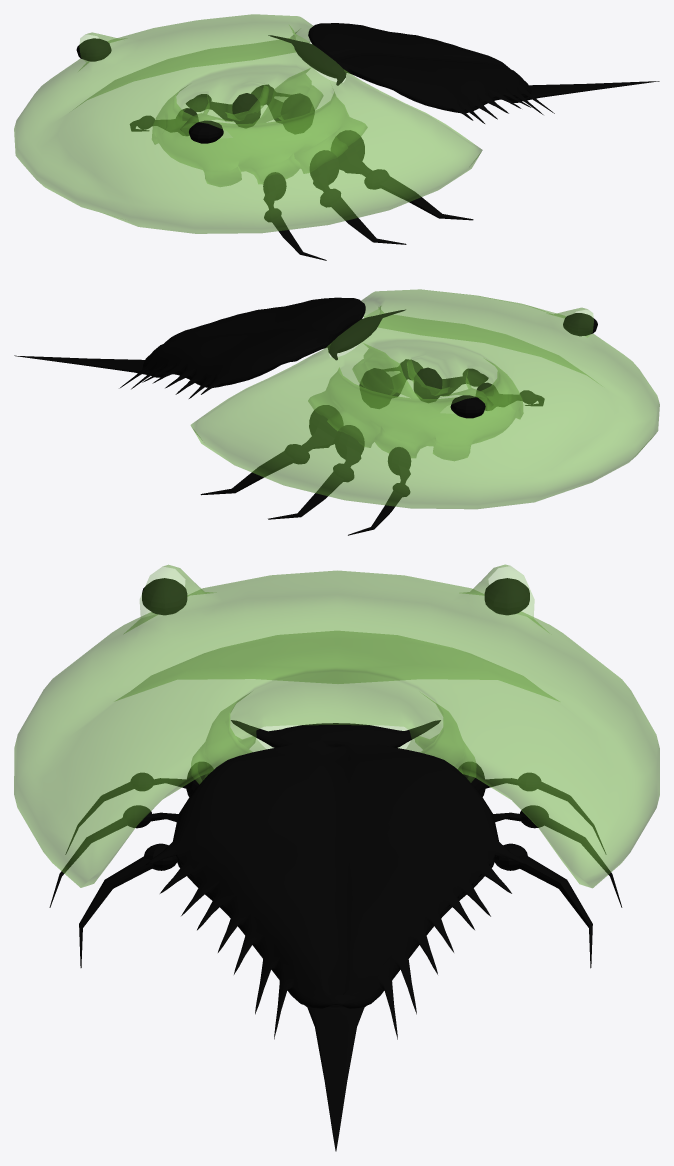
File: crab.fbx
The picture shows the model from 3 angles, top to bottom: view 1: azimuth 30°, elevation 25°; view 2: azimuth 150°, elevation 25°; view 3: azimuth 270°, elevation 25°; orthographic projection. The views are drawn at different scales.
Parts seen in each view (by area): view 1: pSphere3, pSphere5, pSphere16, pSphere7, pSphere4, pSphere13, pSphere6, pSphere8, pSphere9, pSphere15, pSphere19, pSphere18 (+2 smaller); view 2: pSphere3, pSphere5, pSphere4, pSphere17, pSphere16, pSphere9, pSphere6, pSphere12, pSphere13, pSphere11, pSphere19, pSphere18 (+2 smaller); view 3: pSphere3, pSphere5, pSphere6, pSphere17, pSphere7, pSphere18, pSphere19, pSphere12, pSphere8, pSphere10, pSphere14.
Part boxes in pixels (left/top/right/bottom): pSphere3: left=14, top=14, right=482, bottom=233; pSphere5: left=268, top=23, right=554, bottom=123; pSphere16: left=264, top=93, right=314, bottom=133; pSphere7: left=364, top=169, right=473, bottom=220; pSphere4: left=331, top=130, right=372, bottom=176; pSphere13: left=205, top=93, right=260, bottom=127; pSphere6: left=508, top=81, right=659, bottom=102; pSphere8: left=320, top=188, right=406, bottom=244; pSphere9: left=310, top=150, right=339, bottom=191; pSphere15: left=151, top=108, right=198, bottom=135; pSphere19: left=76, top=38, right=111, bottom=61; pSphere18: left=189, top=120, right=223, bottom=143; pSphere3: left=190, top=289, right=659, bottom=509; pSphere5: left=119, top=297, right=405, bottom=398; pSphere4: left=359, top=368, right=409, bottom=408; pSphere17: left=200, top=444, right=309, bottom=495; pSphere16: left=302, top=405, right=342, bottom=451; pSphere9: left=413, top=367, right=468, bottom=402; pSphere6: left=14, top=355, right=165, bottom=377; pSphere12: left=268, top=463, right=354, bottom=519; pSphere13: left=334, top=425, right=364, bottom=466; pSphere11: left=476, top=382, right=523, bottom=410; pSphere19: left=450, top=395, right=485, bottom=418; pSphere18: left=563, top=313, right=597, bottom=336; pSphere3: left=14, top=564, right=659, bottom=888; pSphere5: left=146, top=720, right=525, bottom=1039; pSphere6: left=304, top=1005, right=365, bottom=1151; pSphere17: left=495, top=843, right=592, bottom=968; pSphere7: left=79, top=843, right=176, bottom=967; pSphere18: left=142, top=578, right=187, bottom=615; pSphere19: left=484, top=578, right=529, bottom=615; pSphere12: left=519, top=805, right=622, bottom=907; pSphere8: left=49, top=805, right=151, bottom=907; pSphere10: left=65, top=772, right=153, bottom=854; pSphere14: left=518, top=772, right=606, bottom=854.
Size of the model in its own units: 10.07 by 2.22 by 5.92.
